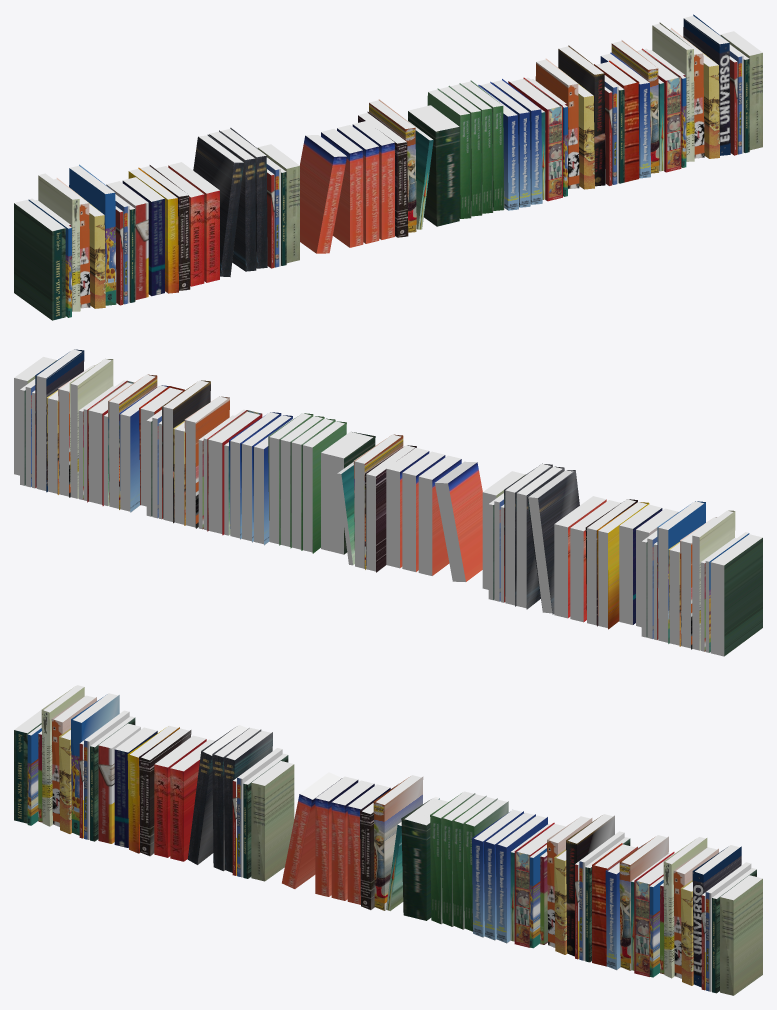
File: books 1.fbx
3 renders of one model, top to bottom at view 1: azimuth 30°, elevation 25°; view 2: azimuth 150°, elevation 25°; view 3: azimuth 330°, elevation 25°, orthographic.
Parts seen in each view (by area): view 1: polySurface1; view 2: polySurface1; view 3: polySurface1.
Part boxes in pixels (x1=…): polySurface1: x1=14, y1=14, x2=762, y2=320; polySurface1: x1=14, y1=349, x2=762, y2=656; polySurface1: x1=14, y1=685, x2=762, y2=995.
Size of the model in its own units: 175 by 26.84 by 17.26.
